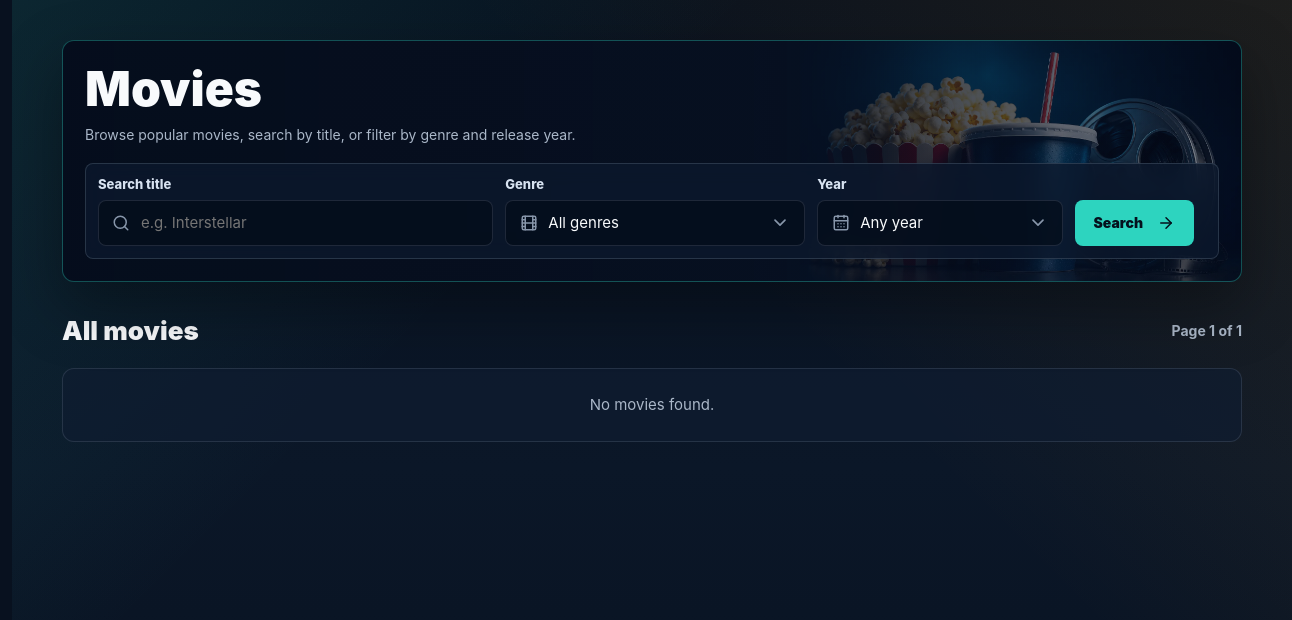
Test: MoviesPage › waits for form submit before searching by title
Type "Interstellar" into the search field labelled "Search title" at (296, 223), box [98, 200, 493, 246]
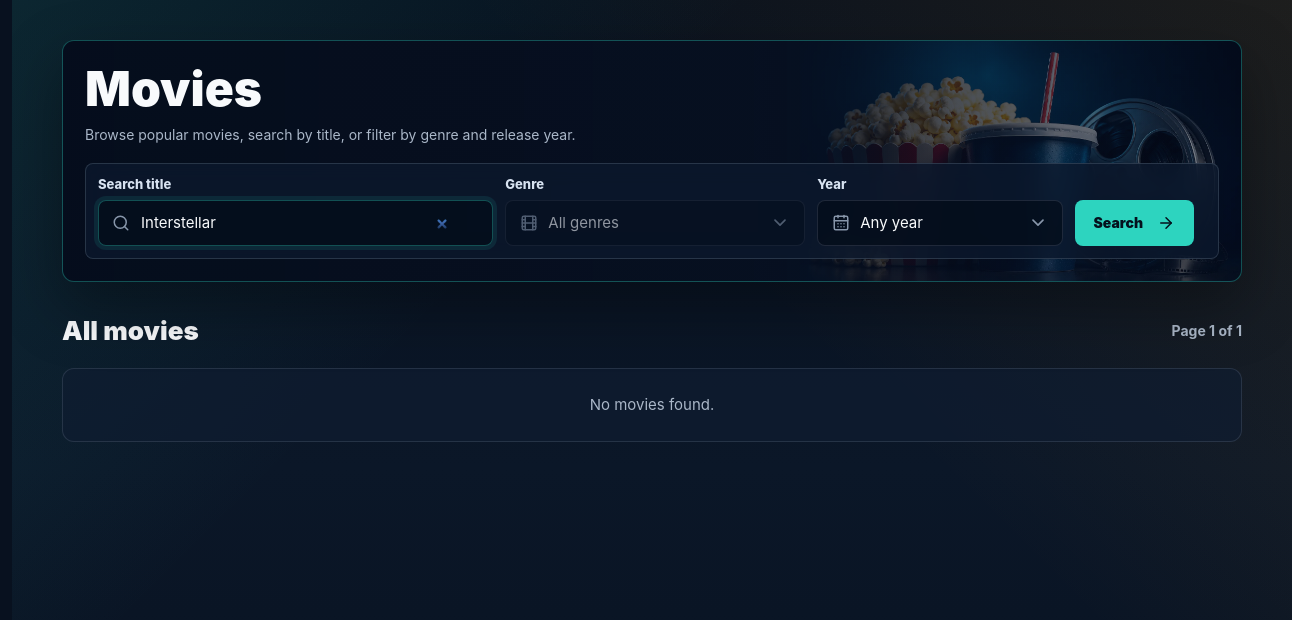
Click the button "Search" at (1134, 223), box [1074, 200, 1194, 246]
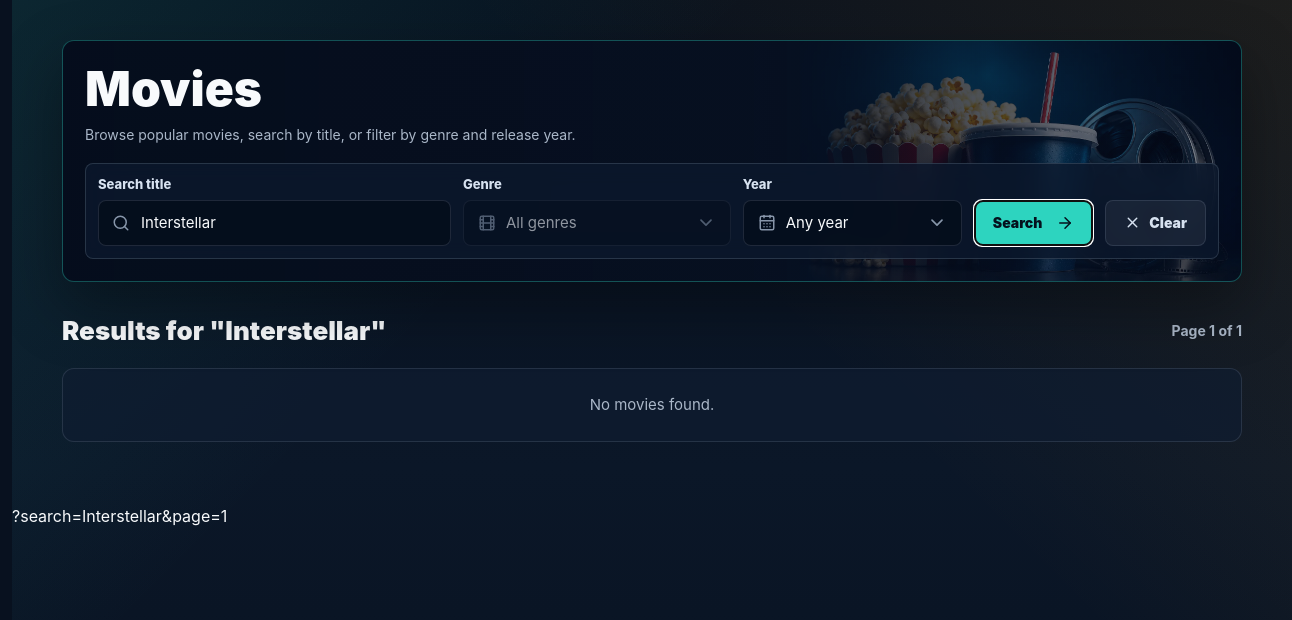
expect the text named "current search" reads "?search=Interstellar&page=1": met, box [12, 506, 227, 526]
